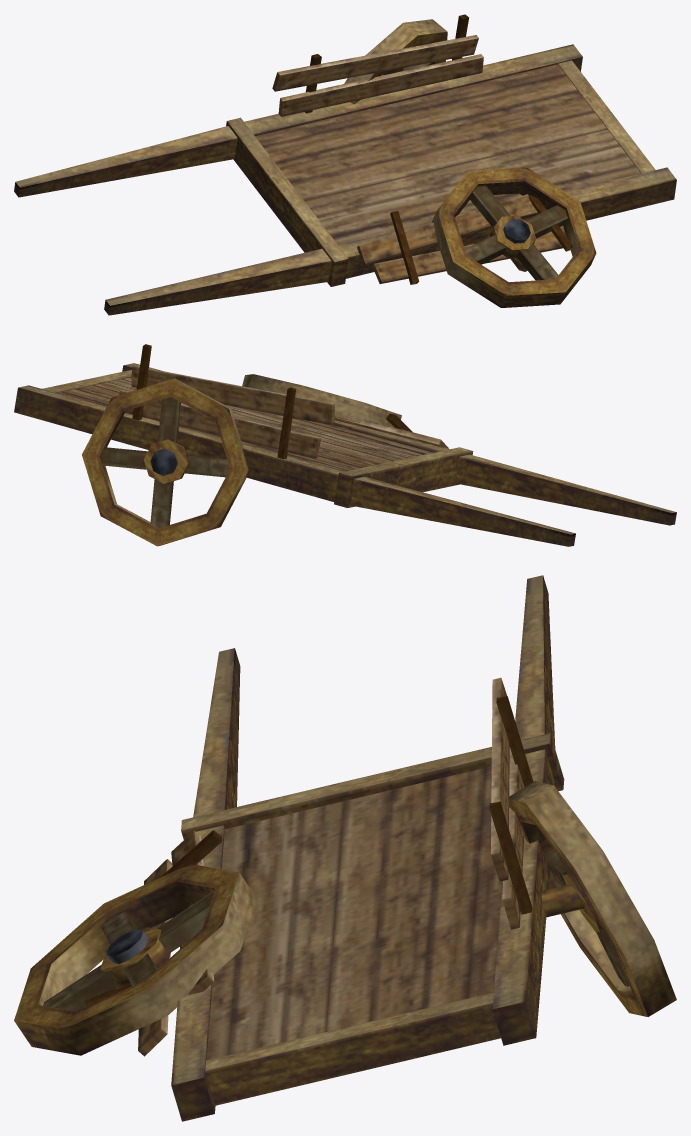
File: b_general_obj_21_1.fbx
3 views of the same model, one above another, from view 1: azimuth 30°, elevation 25°; view 2: azimuth 150°, elevation 25°; view 3: azimuth 270°, elevation 25° (orthographic). The views are drawn at different scales.
Parts seen in each view (by area): view 1: Sphere02; view 2: Sphere02; view 3: Sphere02.
Part boxes in pixels (box(x1,y1,x2,y2)): Sphere02: box(14, 14, 676, 315); Sphere02: box(14, 344, 676, 546); Sphere02: box(14, 575, 676, 1121).
Size of the model in its own units: 4.87 by 1.44 by 3.09.
